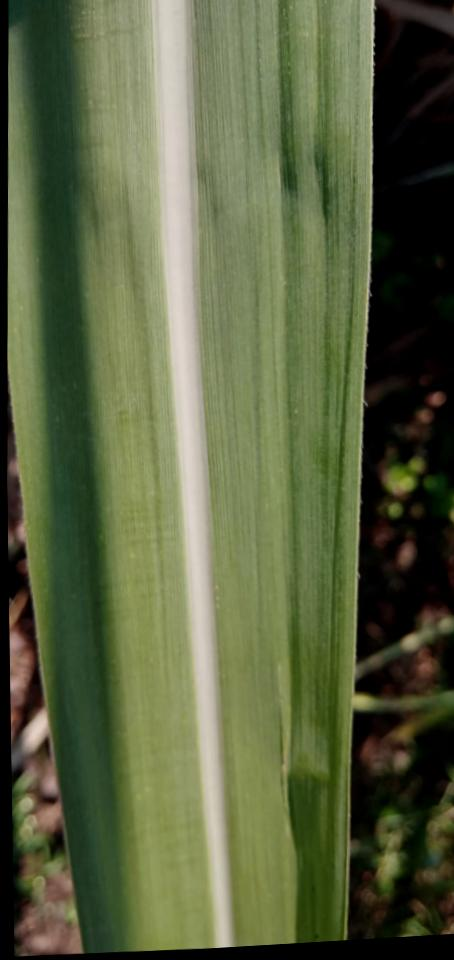Healthy: (7, 0, 373, 953)
